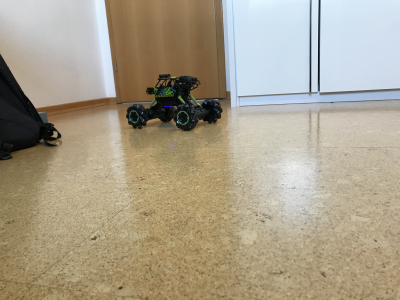remote control car: (124, 70, 224, 132)
